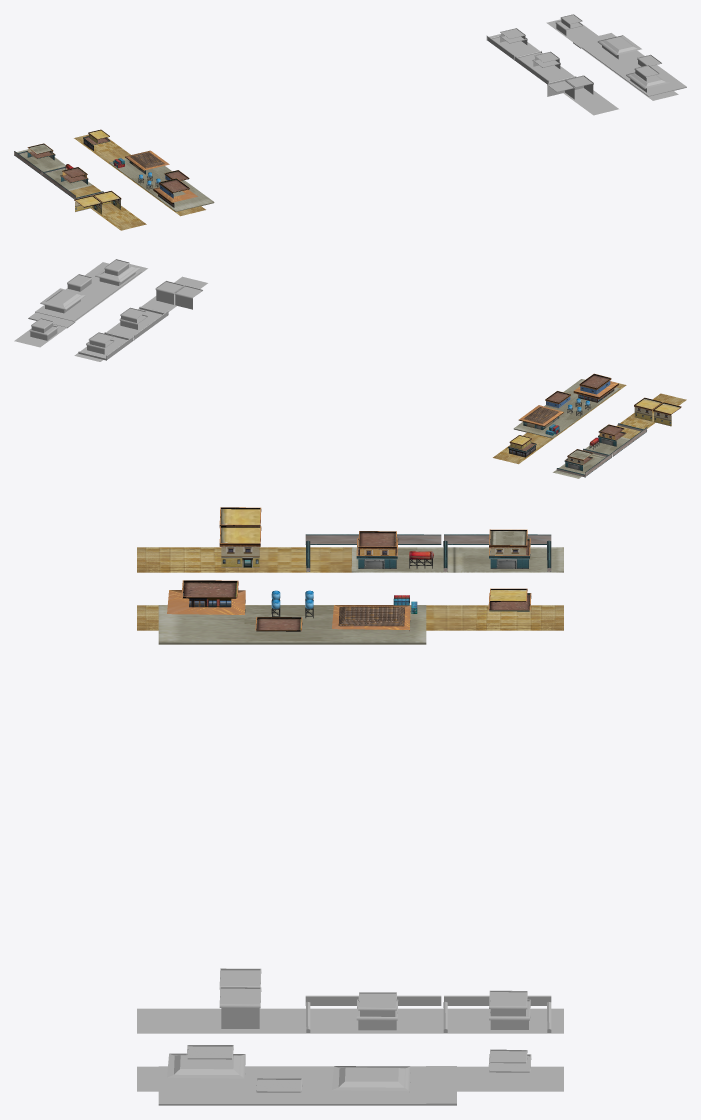
File: us_smalltown_mid_01.fbx
The picture shows the model from 3 angles, top to bottom: view 1: azimuth 30°, elevation 25°; view 2: azimuth 150°, elevation 25°; view 3: azimuth 270°, elevation 25°; orthographic projection. The views are drawn at different scales.
Visible parts, largest first — view 1: us_smalltown_mid_02, us_smalltown_mid_01; view 2: us_smalltown_mid_01, us_smalltown_mid_02, us_smalltown_props; view 3: us_smalltown_mid_01, us_smalltown_mid_02, polySurface101, us_smalltown_props.
Boxes of the visible parts, left/top/right/bottom form: us_smalltown_mid_02: left=486, top=14, right=686, bottom=115; us_smalltown_mid_01: left=14, top=129, right=214, bottom=230; us_smalltown_mid_01: left=493, top=373, right=686, bottom=478; us_smalltown_mid_02: left=14, top=259, right=207, bottom=361; us_smalltown_props: left=545, top=398, right=599, bottom=449; us_smalltown_mid_01: left=137, top=507, right=563, bottom=644; us_smalltown_mid_02: left=137, top=968, right=563, bottom=1105; polySurface101: left=426, top=1066, right=456, bottom=1105; us_smalltown_props: left=271, top=551, right=433, bottom=618.
Bounding box in the file's own units: 31764 × 783 × 10000.
